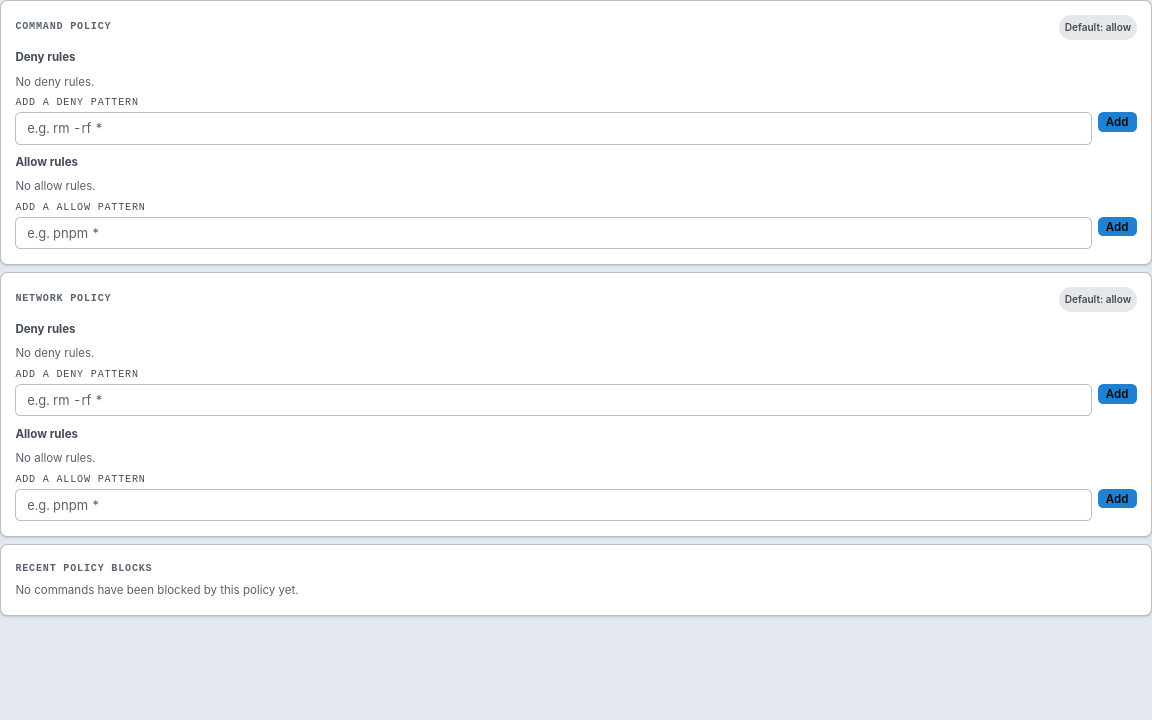
PermissionPolicyPanel (SPEC §7.17; issue #751) › adding a rule sends the full updated policy and shows the saved result back
Type "touch *" into the field with test id "permission-policy-command-deny-input" at coordinates (554, 128), box 15,112 -> 1092,145
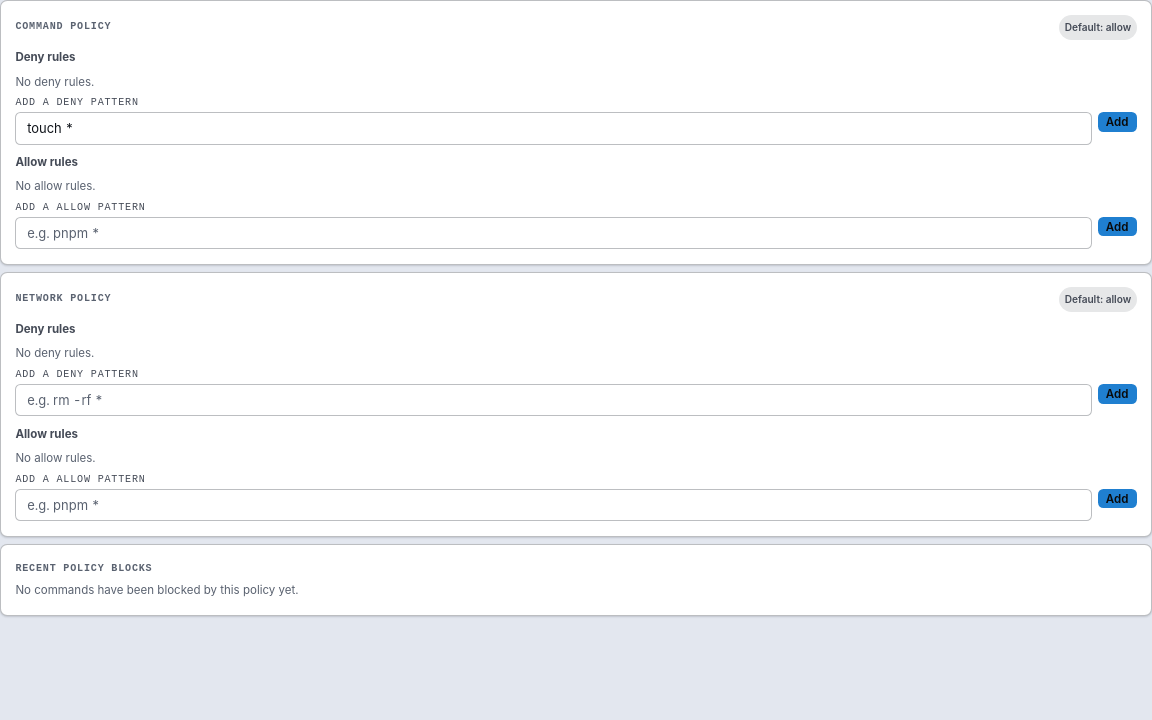
Click the button with test id "permission-policy-command-deny-add" at coordinates (1117, 122), box 1098,112 -> 1137,132
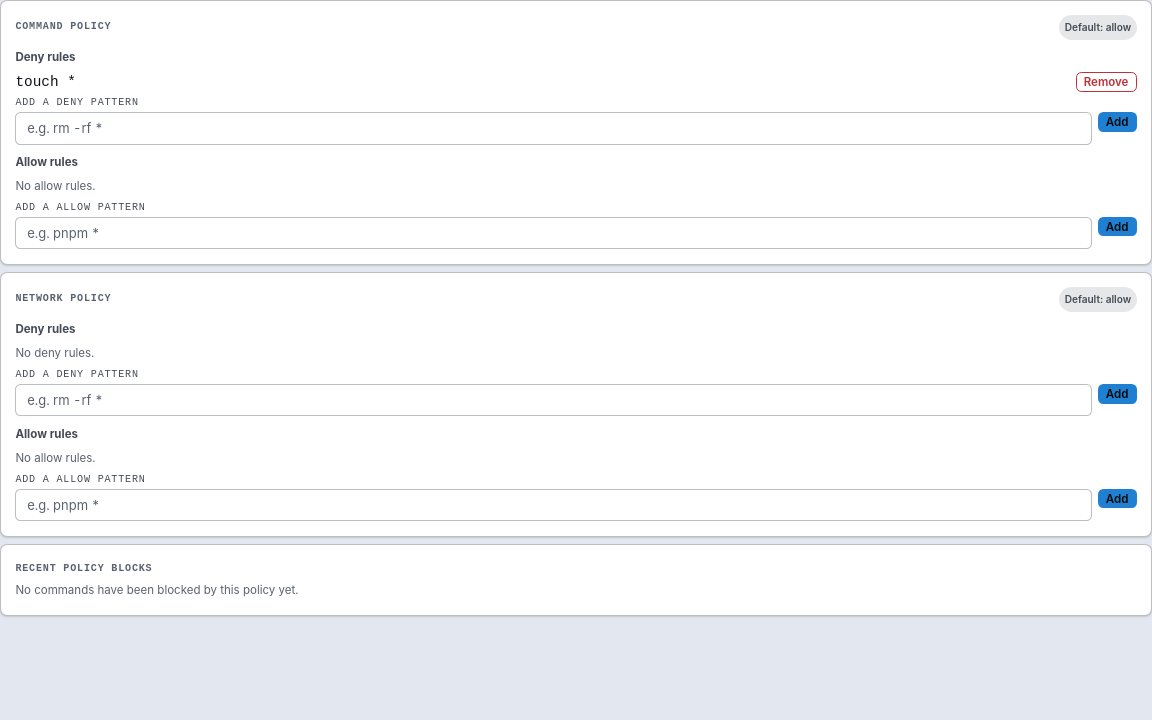
Expected: the list with test id "permission-policy-command-deny-list" shows "touch *", 15,74 -> 76,90
